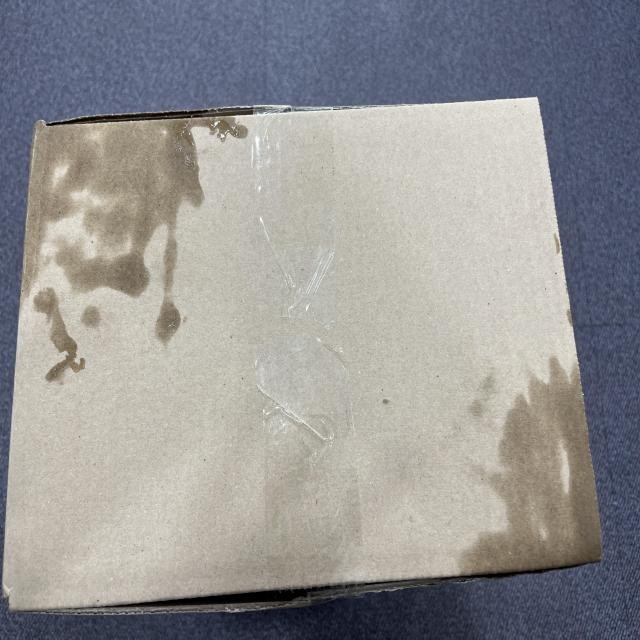wet: (204, 29, 408, 346), (41, 607, 223, 640)
